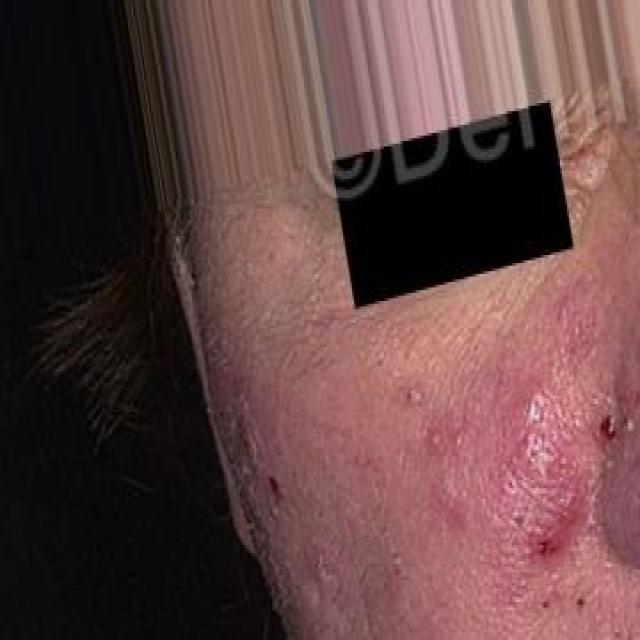Rosacea: (357, 277, 609, 577)
